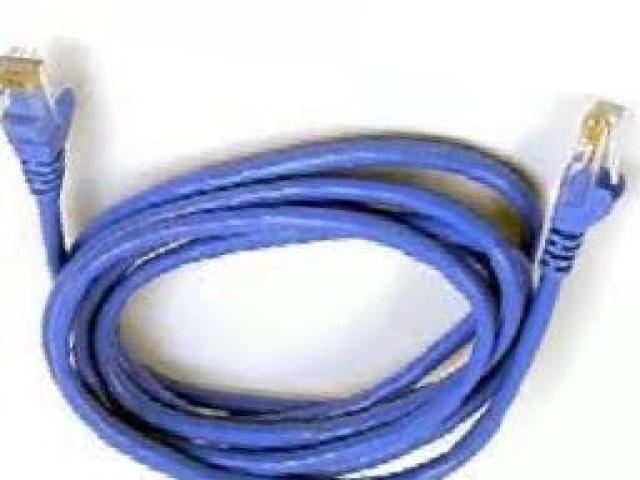wire: (0, 39, 630, 478)
